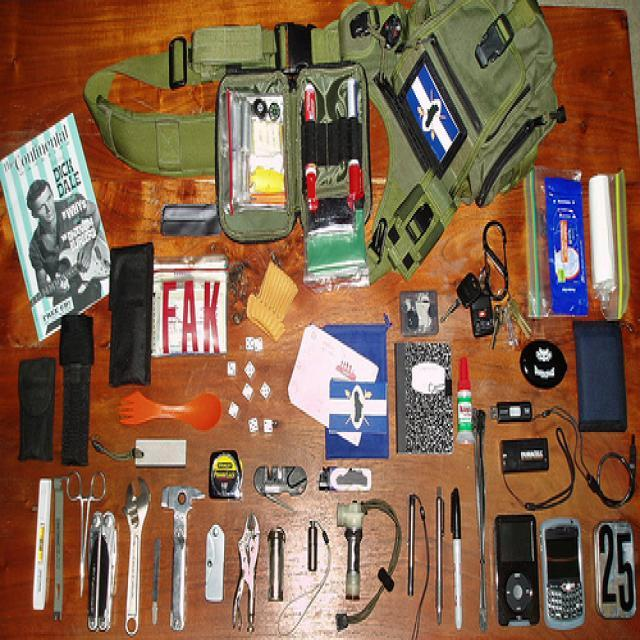pliers: (232, 506, 264, 638)
wrench: (119, 474, 154, 640)
